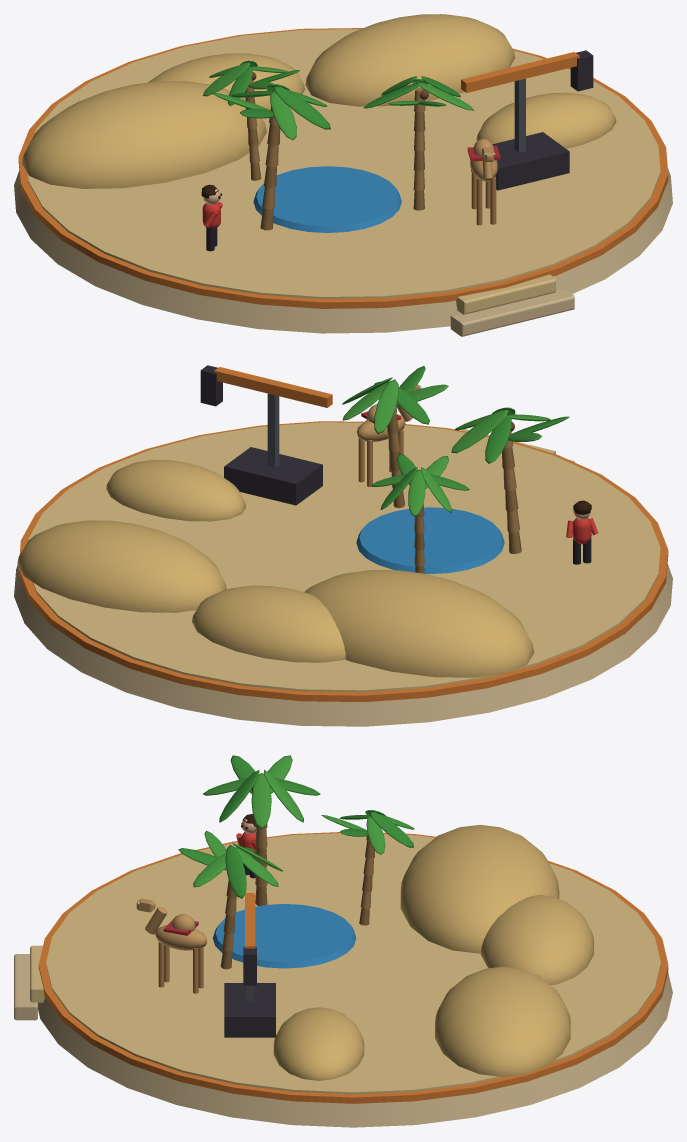
Rendered from oasis.glb.
3 renders of one model, top to bottom at view 1: azimuth 30°, elevation 25°; view 2: azimuth 150°, elevation 25°; view 3: azimuth 270°, elevation 25°, orthographic. The views are drawn at different scales.
Visible parts, largest first — view 1: part_000, part_002; view 2: part_000, part_002; view 3: part_000, part_002.
Boxes of the visible parts, x1,y1,x2,y2 form: part_000: (14,14,672,336); part_002: (461,50,593,92); part_000: (14,366,672,726); part_002: (200,365,332,407); part_000: (14,755,672,1127); part_002: (243,893,256,985).
Size of the model in its own units: 11.12 by 3.23 by 11.47.
